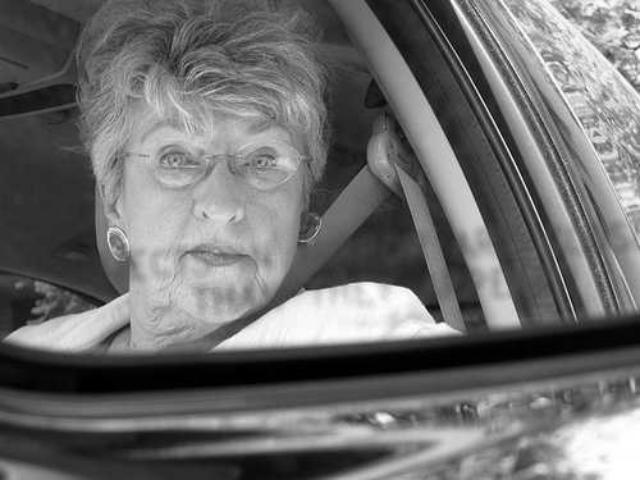SafeDriving: (144, 126, 206, 182), (235, 134, 287, 180)
Seatbelt: (151, 115, 473, 357)
